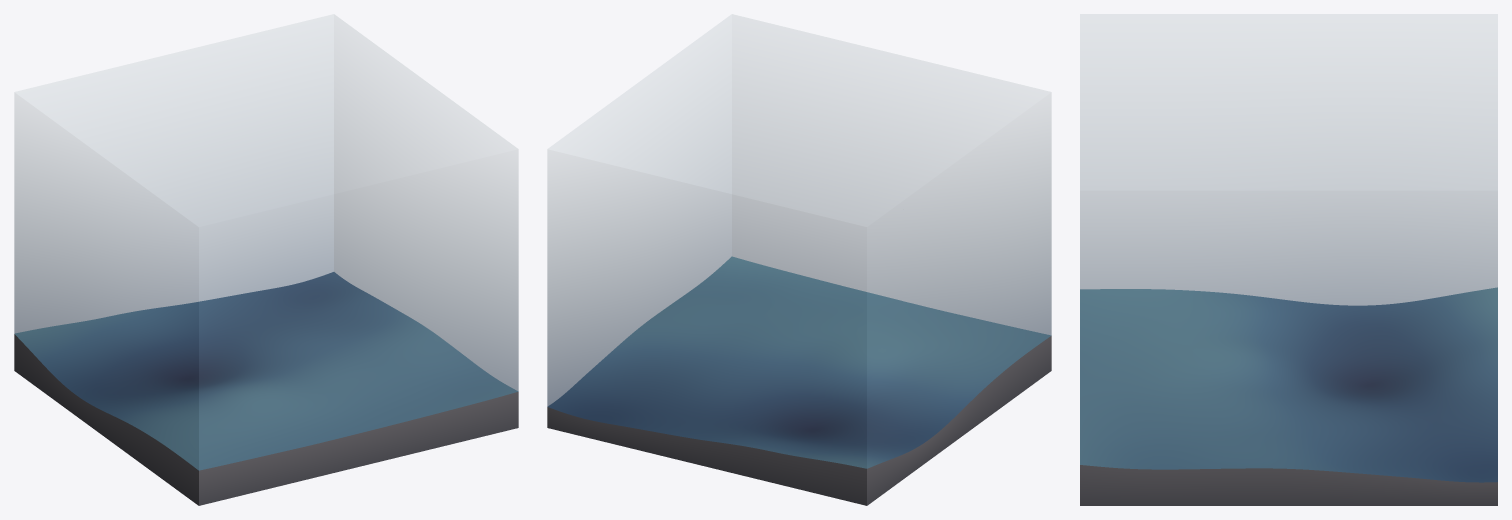
The model's file is mapzen-mariana-trench-dem.glb.
The picture shows the model from 3 angles, left to right: view 1: azimuth 30°, elevation 25°; view 2: azimuth 150°, elevation 25°; view 3: azimuth 270°, elevation 25°; orthographic projection. The views are drawn at different scales.
Parts seen in each view (by area): view 1: water shell, terrain and rock block; view 2: water shell, terrain and rock block; view 3: water shell, terrain and rock block.
Part boxes in pixels (box(x1,y1,x2,y2)): water shell: box(14, 14, 518, 470); terrain and rock block: box(14, 272, 518, 505); water shell: box(547, 14, 1051, 468); terrain and rock block: box(547, 256, 1051, 505); water shell: box(1080, 14, 1497, 482); terrain and rock block: box(1080, 287, 1497, 505).
Size of the model in its own units: 13491 by 11235 by 13491.
